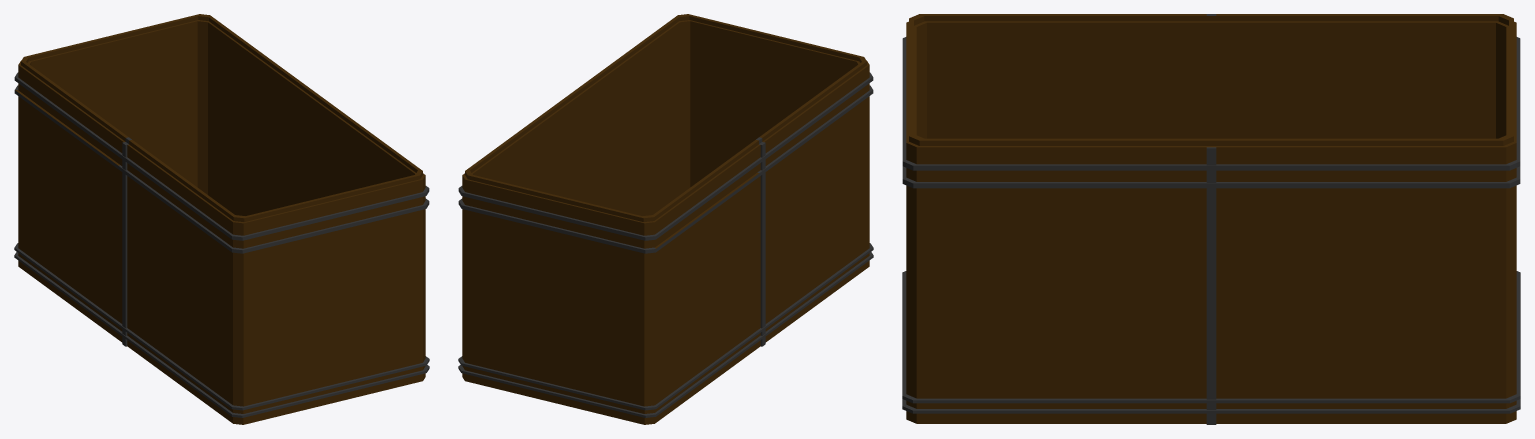
File: Chest.fbx
3 views of the same model, side by side, from view 1: azimuth 30°, elevation 25°; view 2: azimuth 150°, elevation 25°; view 3: azimuth 270°, elevation 25° (orthographic). The views are drawn at different scales.
Visible parts, largest first — view 1: Cube; view 2: Cube; view 3: Cube.
Part boxes in pixels (x1=…): Cube: x1=14, y1=14, x2=429, y2=424; Cube: x1=458, y1=14, x2=873, y2=424; Cube: x1=902, y1=14, x2=1520, y2=424.
Bounding box in the file's own units: 205 × 204 × 405.
